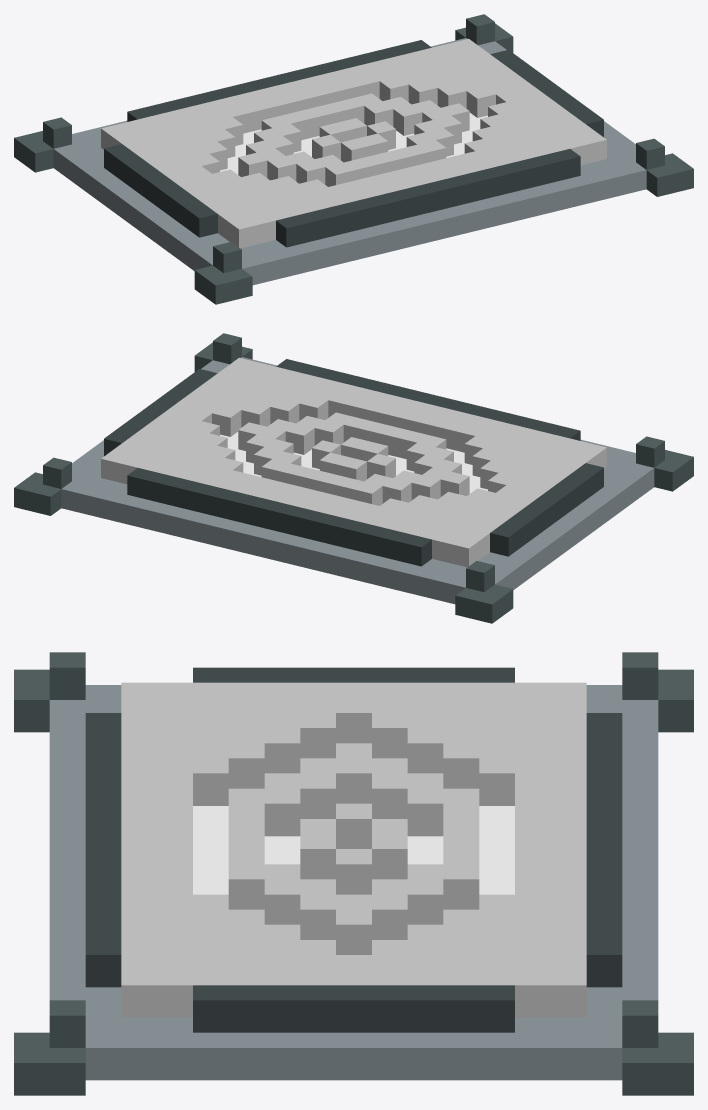
The model's file is white puddle2.obj.
3 views of the same model, one above another, from view 1: azimuth 30°, elevation 25°; view 2: azimuth 150°, elevation 25°; view 3: azimuth 270°, elevation 25° (orthographic). The views are drawn at different scales.
Bounding box in the file's own units: 2.6 × 0.2 × 1.9.
1 material, 1 textured.
